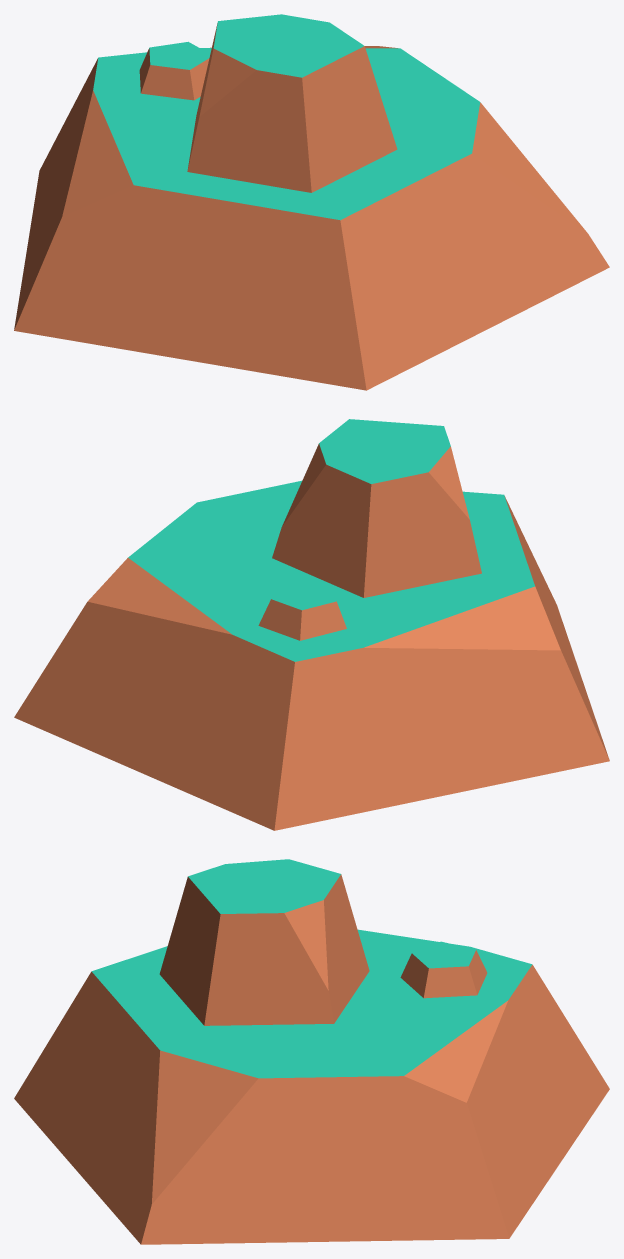
The model's file is rock_smallTopB.dae.
The picture shows the model from 3 angles, top to bottom: view 1: azimuth 30°, elevation 25°; view 2: azimuth 150°, elevation 25°; view 3: azimuth 270°, elevation 25°; orthographic projection. The views are drawn at different scales.
Visible parts, largest first — view 1: rock_smallTopB; view 2: rock_smallTopB; view 3: rock_smallTopB.
Part boxes in pixels (<box>): rock_smallTopB: <box>14,14,609,390</box>; rock_smallTopB: <box>14,419,609,830</box>; rock_smallTopB: <box>14,859,609,1244</box>.
Size of the model in its own units: 0.6221 by 0.28 by 0.6463.
